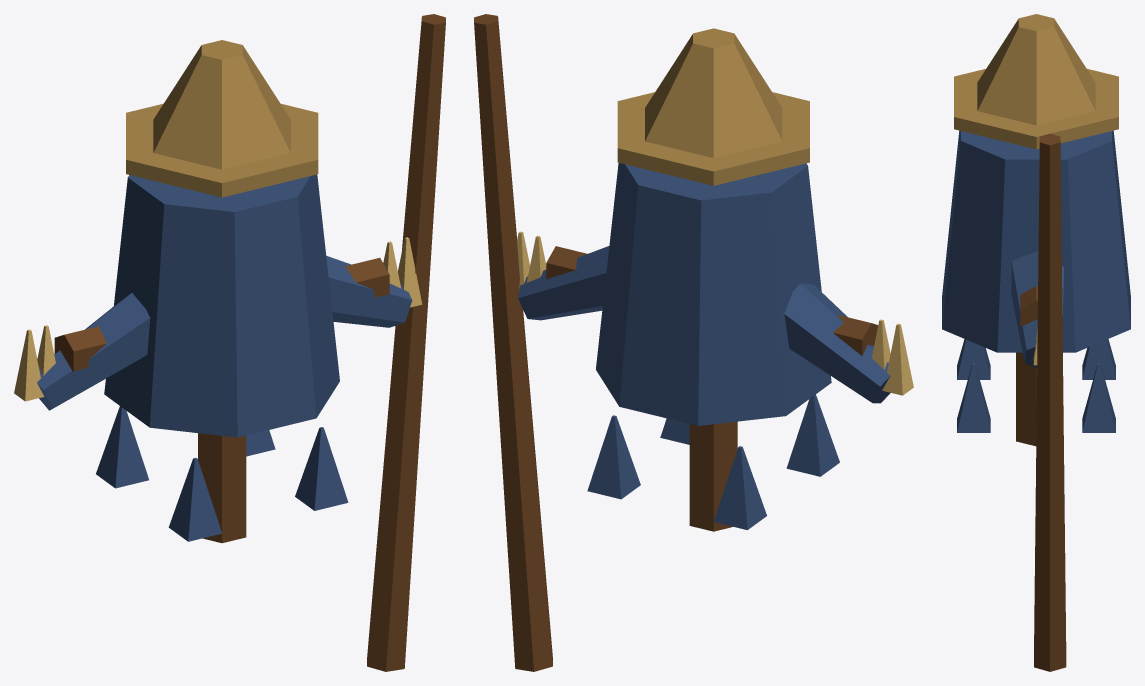
The model's file is scarecrow.glb.
3 views of the same model, side by side, from view 1: azimuth 30°, elevation 25°; view 2: azimuth 150°, elevation 25°; view 3: azimuth 270°, elevation 25° (orthographic). The views are drawn at different scales.
Parts seen in each view (by area): view 1: scarecrow_lod0; view 2: scarecrow_lod0; view 3: scarecrow_lod0.
Boxes of the visible parts, bbox=[...] form: scarecrow_lod0: bbox=[14, 14, 445, 671]; scarecrow_lod0: bbox=[474, 14, 913, 671]; scarecrow_lod0: bbox=[942, 14, 1130, 671].
Bounding box in the file's own units: 1.25 × 1.84 × 0.5543.
